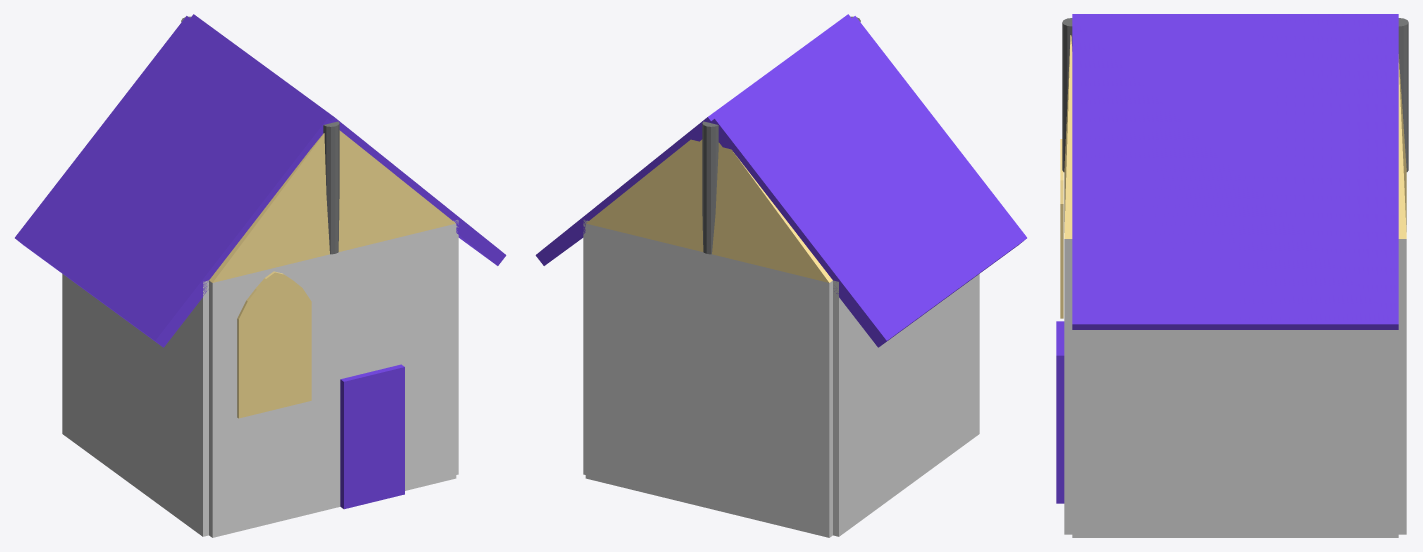
Rendered from HouseA.fbx.
The picture shows the model from 3 angles, left to right: view 1: azimuth 30°, elevation 25°; view 2: azimuth 150°, elevation 25°; view 3: azimuth 270°, elevation 25°; orthographic projection. The views are drawn at different scales.
Visible parts, largest first — view 1: HouseA; view 2: HouseA; view 3: HouseA.
Boxes of the visible parts, bbox=[...] form: HouseA: bbox=[15, 14, 506, 537]; HouseA: bbox=[535, 14, 1026, 537]; HouseA: bbox=[1056, 14, 1408, 537].
Size of the model in its own units: 5.77 by 6.08 by 4.33.
